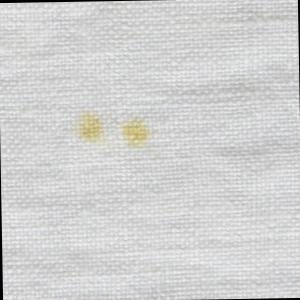Stain: (74, 106, 108, 147), (121, 114, 150, 151)
